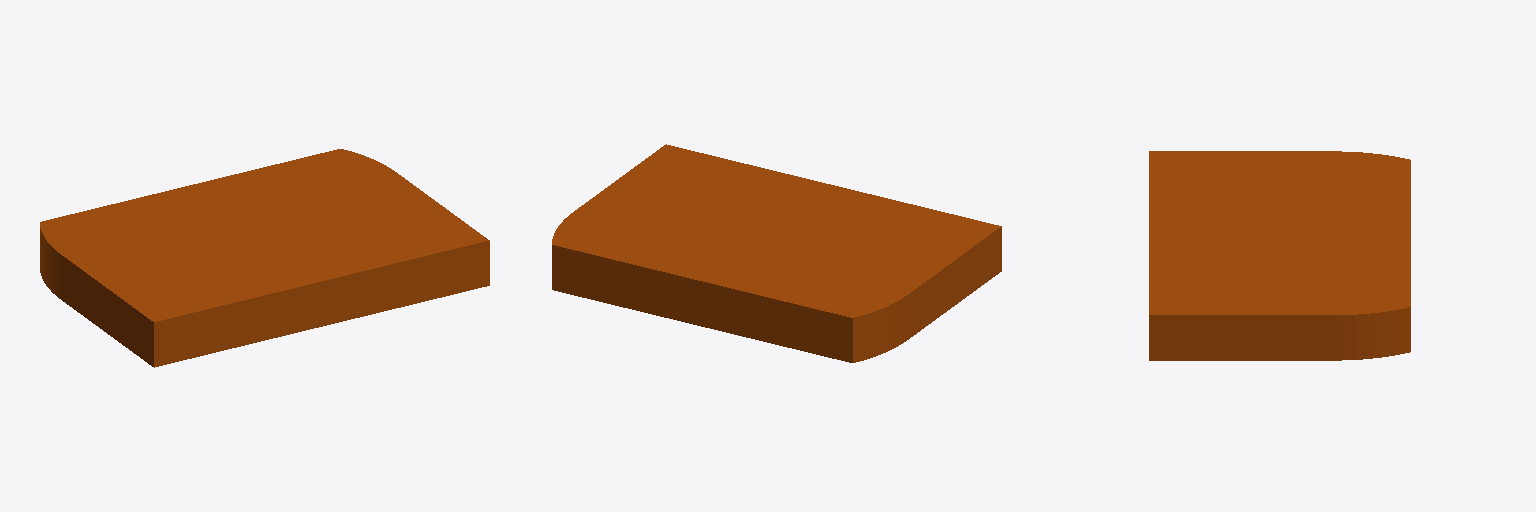
The model's file is estadio_diamond.obj.
3 views of the same model, side by side, from view 1: azimuth 30°, elevation 25°; view 2: azimuth 150°, elevation 25°; view 3: azimuth 270°, elevation 25° (orthographic).
Visible parts, largest first — view 1: Base; view 2: Base; view 3: Base.
Part boxes in pixels (left/top/right/bottom): Base: left=40, top=149, right=489, bottom=367; Base: left=552, top=144, right=1001, bottom=362; Base: left=1149, top=151, right=1410, bottom=360.
Size of the model in its own units: 23.69 by 3.05 by 16.06.